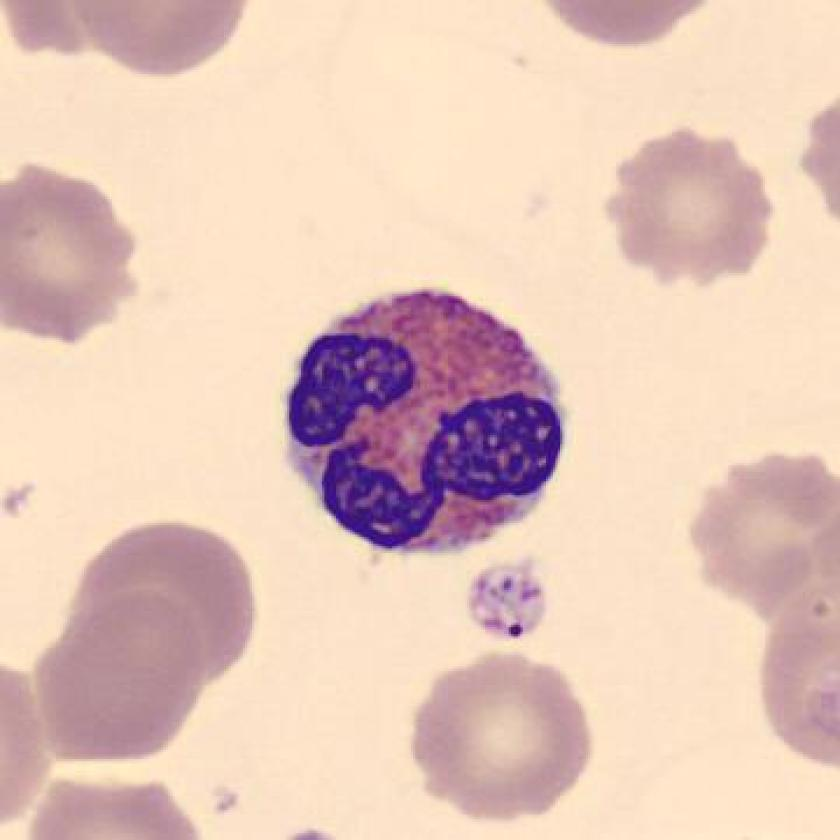eosinophil: (270, 272, 578, 573)
